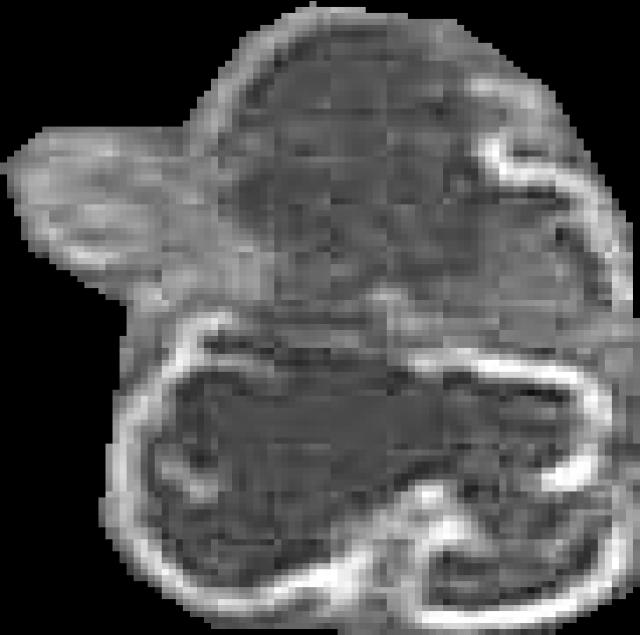tumor_good_chance: (0, 1, 640, 635)
